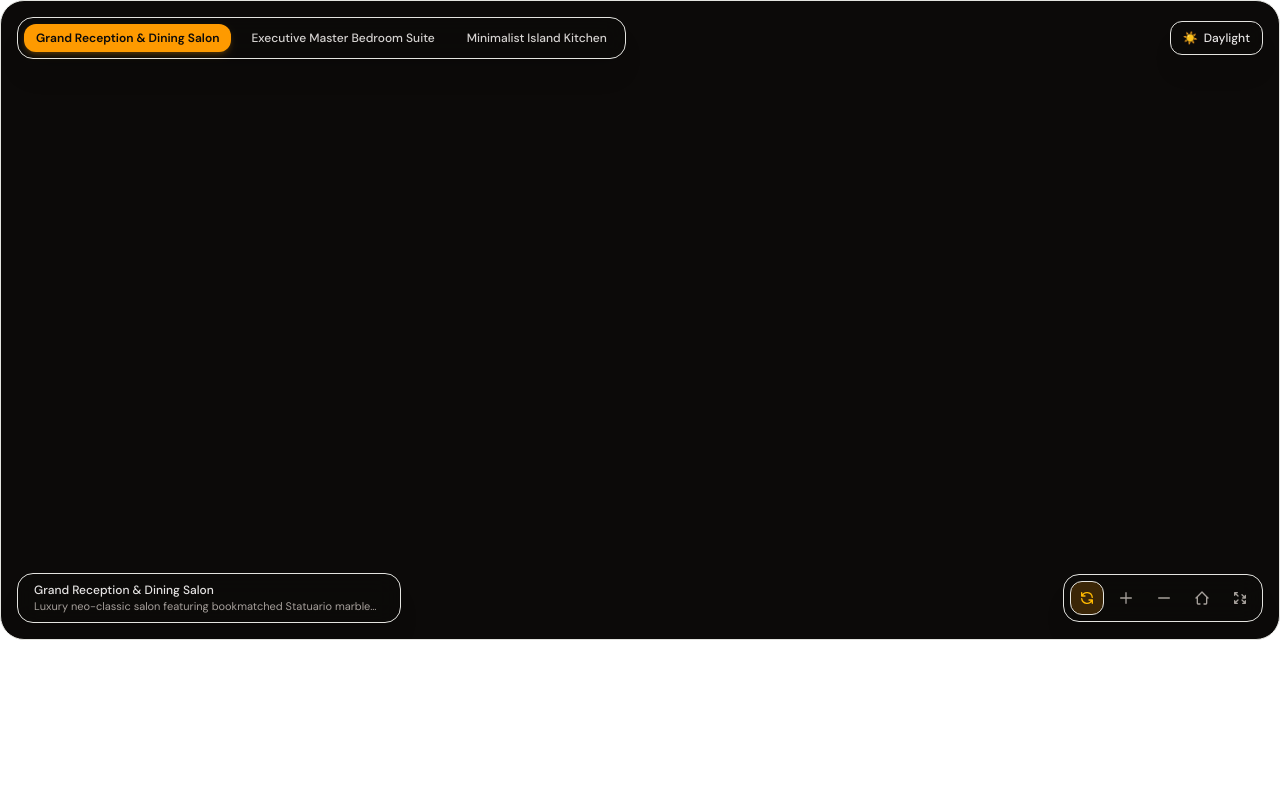
Test: PanoramaViewer Component › switches scene when room button is clicked
The image size is (1280, 800).
Click the button "Minimalist Island Kitchen". click: (537, 38)
box: [455,24,619,52]
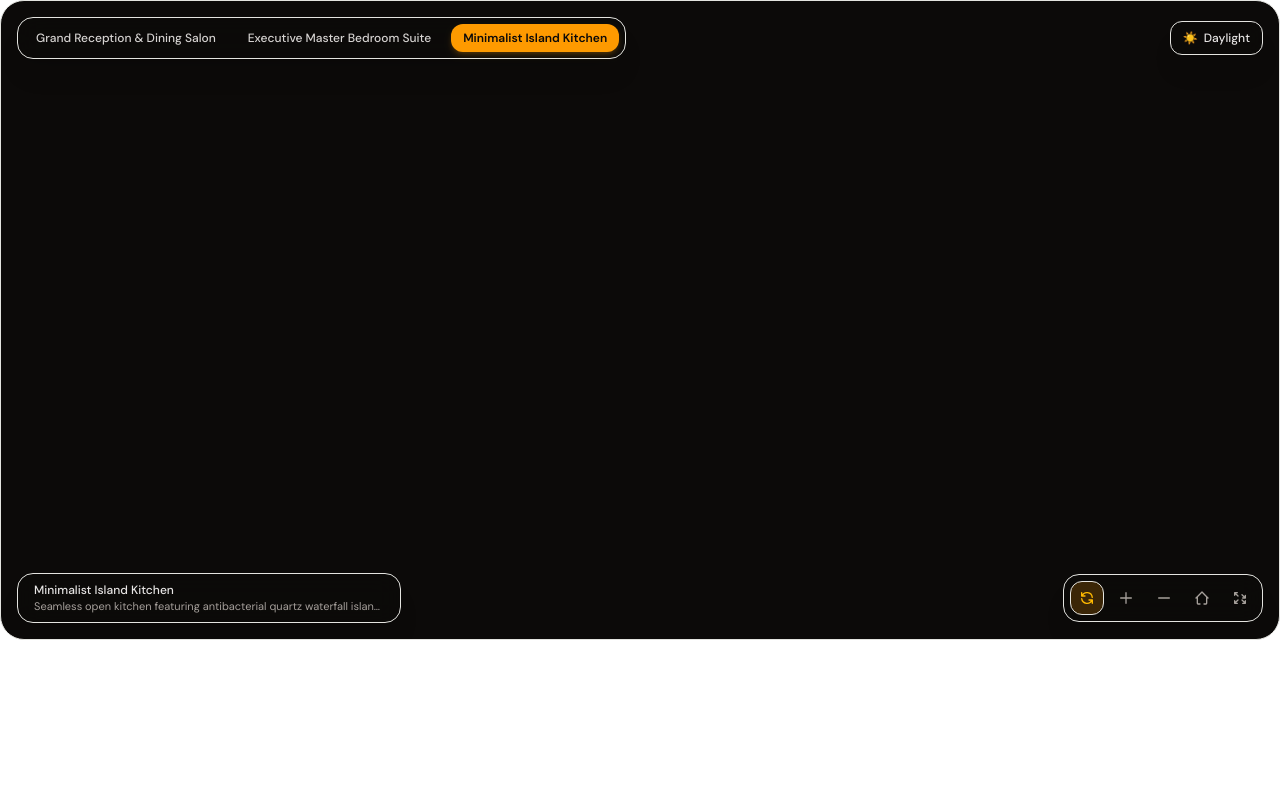
Now the text "Seamless open kitchen featuring antibacterial quartz waterfall island and concealed appliances" is shown, box [34,598,381,629]
